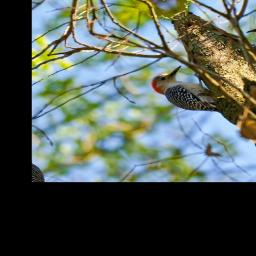Woodpecker: (134, 57, 240, 136)
